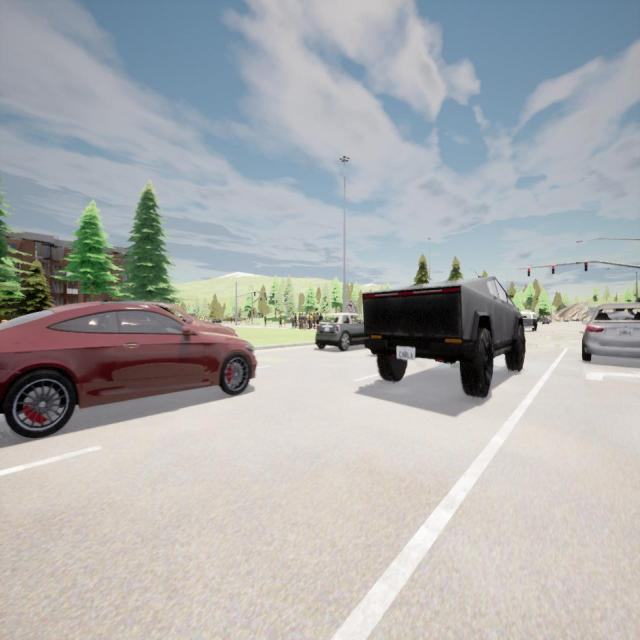Pedestrian: (278, 312, 283, 328), (263, 313, 268, 326), (294, 313, 298, 329), (301, 313, 305, 329), (305, 312, 308, 330), (291, 313, 294, 330), (298, 313, 301, 329), (311, 312, 313, 330), (314, 312, 316, 329), (308, 313, 310, 329), (319, 312, 323, 320), (316, 312, 318, 323), (230, 316, 232, 323)
Traffic_Signs: (344, 299, 355, 313)
Vehicle: (0, 301, 256, 437), (363, 276, 525, 396), (582, 302, 640, 361), (316, 314, 362, 351), (520, 308, 539, 331), (210, 318, 222, 323), (542, 318, 550, 325)
traffic_light: (584, 262, 588, 272), (552, 265, 555, 274), (527, 268, 530, 276), (254, 292, 256, 297), (272, 293, 274, 298), (264, 293, 266, 297)
